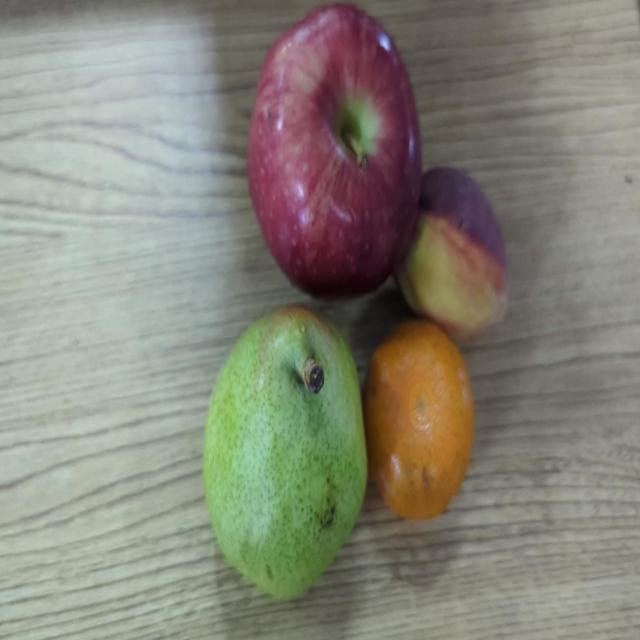Apel Merah: (249, 12, 416, 270)
Jeruk Mandarin: (368, 332, 476, 518)
Persik: (409, 173, 512, 332)
Pir: (208, 308, 364, 603)
